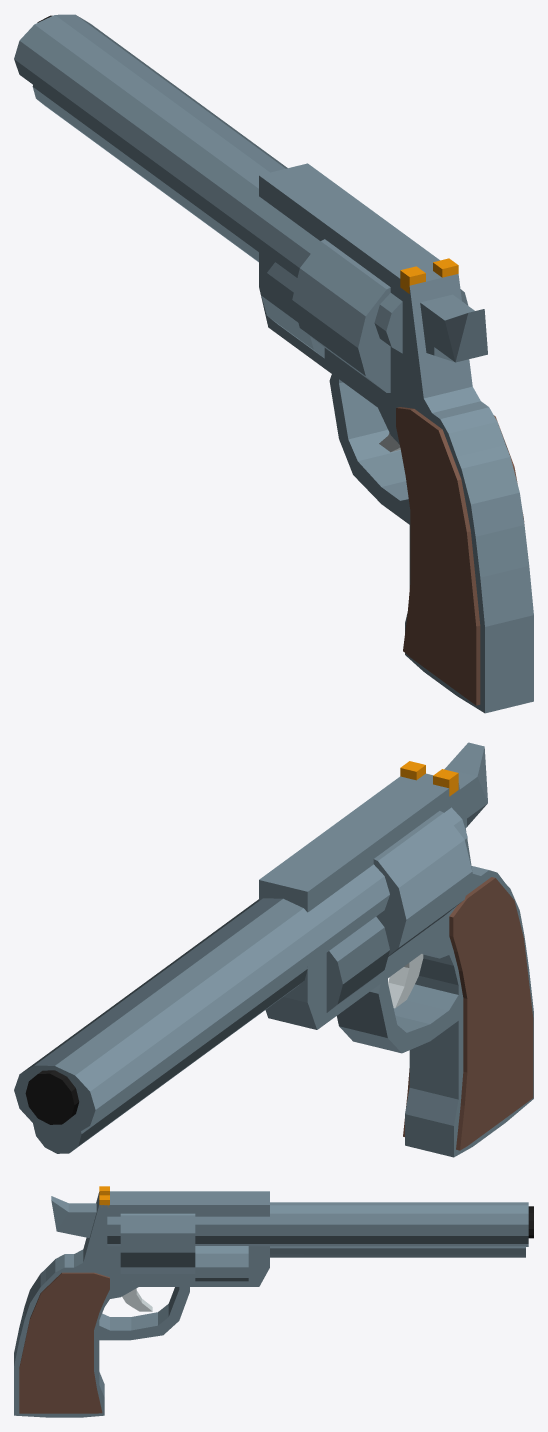
Rendered from scene_QJUZPed8kV.glb.
The picture shows the model from 3 angles, top to bottom: view 1: azimuth 30°, elevation 25°; view 2: azimuth 150°, elevation 25°; view 3: azimuth 270°, elevation 25°; orthographic projection. The views are drawn at different scales.
Visible parts, largest first — view 1: Node; view 2: Node; view 3: Node.
Part boxes in pixels (<box>): Node: <box>14,14,533,713</box>; Node: <box>14,742,533,1157</box>; Node: <box>14,1186,533,1417</box>.
Bounding box in the file's own units: 0.14 × 0.45 × 0.975.
